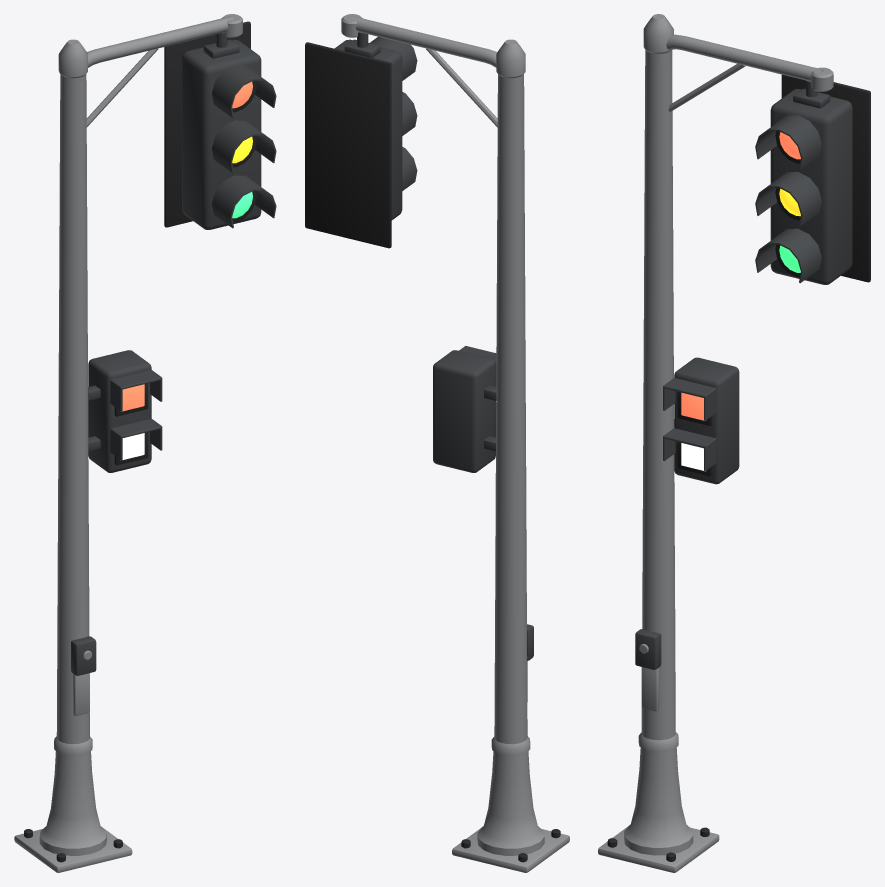
Rendered from TrafficLight.fbx.
3 views of the same model, side by side, from view 1: azimuth 30°, elevation 25°; view 2: azimuth 150°, elevation 25°; view 3: azimuth 330°, elevation 25° (orthographic). The views are drawn at different scales.
Parts seen in each view (by area): view 1: TrafficLight_Mesh; view 2: TrafficLight_Mesh; view 3: TrafficLight_Mesh.
Boxes of the visible parts, left/top/right/bottom form: TrafficLight_Mesh: left=14, top=14, right=276, bottom=872; TrafficLight_Mesh: left=305, top=14, right=569, bottom=872; TrafficLight_Mesh: left=598, top=14, right=870, bottom=872.
Bounding box in the file's own units: 1.33 × 4.47 × 0.54.
